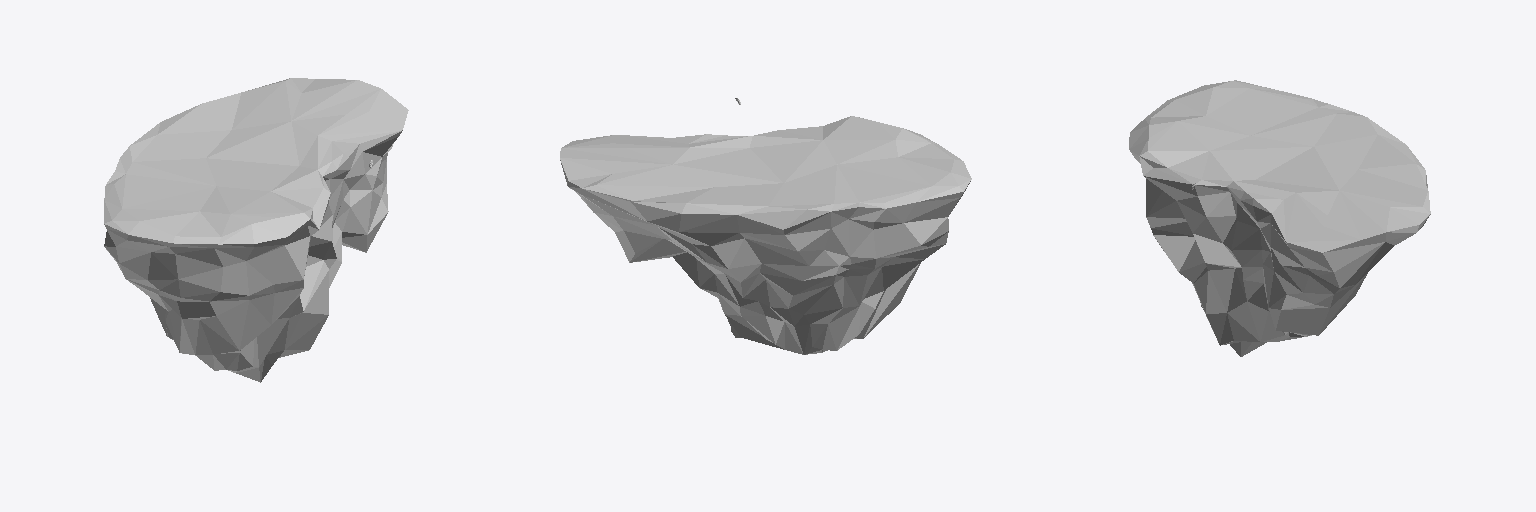
File: leftear.obj
The picture shows the model from 3 angles: view 1: azimuth 30°, elevation 25°; view 2: azimuth 150°, elevation 25°; view 3: azimuth 270°, elevation 25°; orthographic projection.
Visible parts, largest first — view 1: Island.003_Plane.009; view 2: Island.003_Plane.009; view 3: Island.003_Plane.009.
Part boxes in pixels (x1,y1,x2,y2): Island.003_Plane.009: (104, 78, 408, 382); Island.003_Plane.009: (560, 116, 971, 354); Island.003_Plane.009: (1129, 80, 1430, 356).
Bounding box in the file's own units: 38.79 × 23.15 × 29.1.